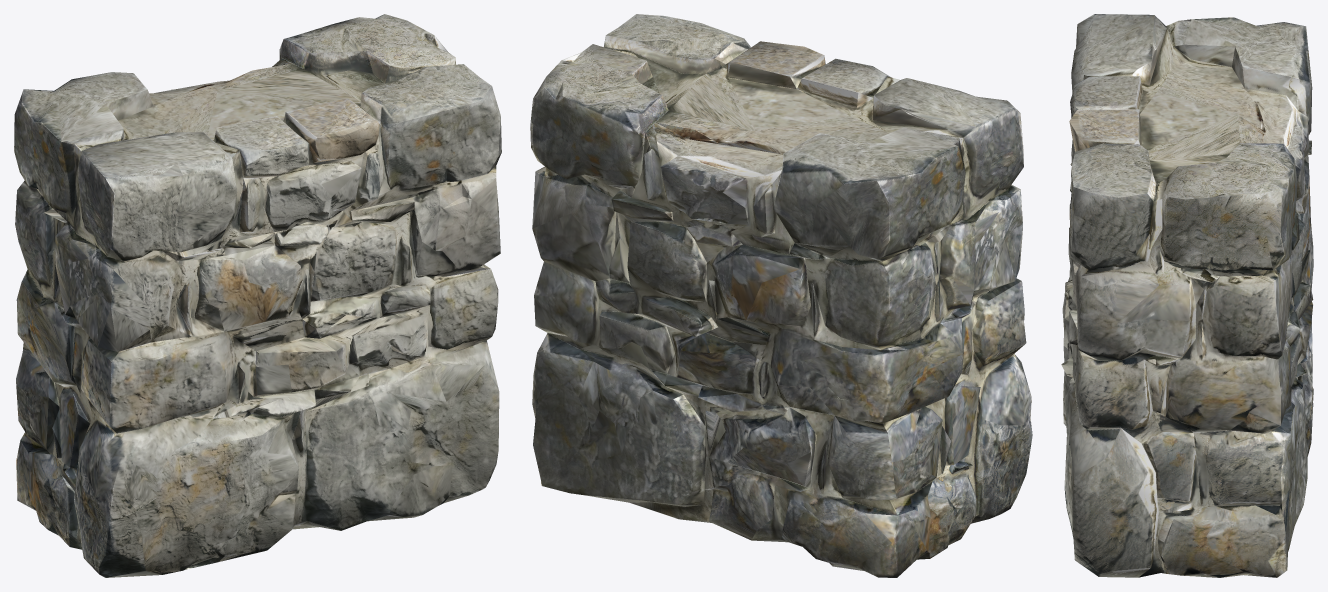
Rendered from StoneWall3.glb.
The picture shows the model from 3 angles, left to right: view 1: azimuth 30°, elevation 25°; view 2: azimuth 150°, elevation 25°; view 3: azimuth 270°, elevation 25°; orthographic projection. The views are drawn at different scales.
Visible parts, largest first — view 1: StoneWall3; view 2: StoneWall3; view 3: StoneWall3.
Boxes of the visible parts, x1,y1,x2,y2 form: StoneWall3: [14, 14, 501, 577]; StoneWall3: [530, 14, 1032, 577]; StoneWall3: [1061, 14, 1313, 577].
Bounding box in the file's own units: 1 × 0.9815 × 0.5696.
Materials: 1 (1 with a texture image).
